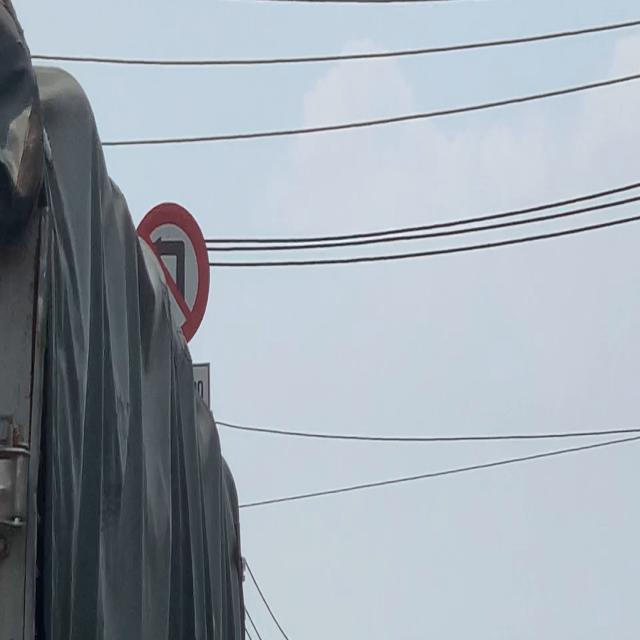Cam re trai: (126, 200, 211, 360)
